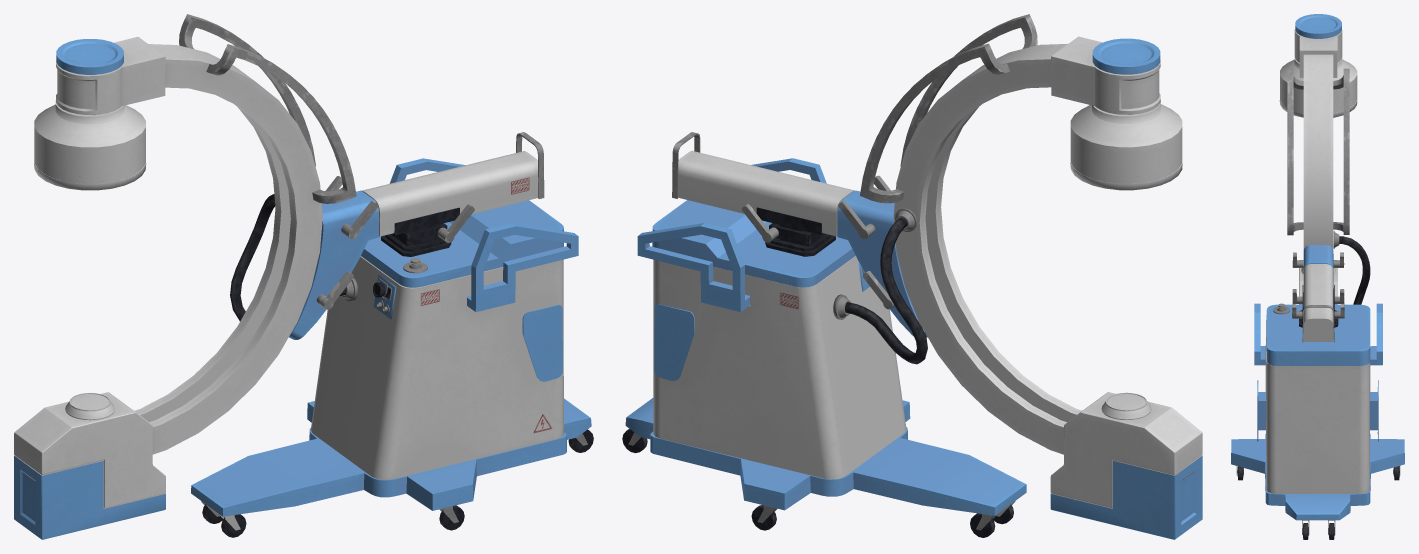
File: HeartScanner.glb
3 renders of one model, left to right at view 1: azimuth 30°, elevation 25°; view 2: azimuth 150°, elevation 25°; view 3: azimuth 270°, elevation 25°, orthographic. The views are drawn at different scales.
Visible parts, largest first — view 1: HeartScanner; view 2: HeartScanner; view 3: HeartScanner.
Boxes of the visible parts, x1,y1,x2,y2 form: HeartScanner: (14, 14, 593, 539); HeartScanner: (622, 14, 1202, 539); HeartScanner: (1231, 14, 1404, 539).
Bounding box in the file's own units: 2.04 × 1.79 × 0.8007.
Materials: 1 (1 with a texture image).
